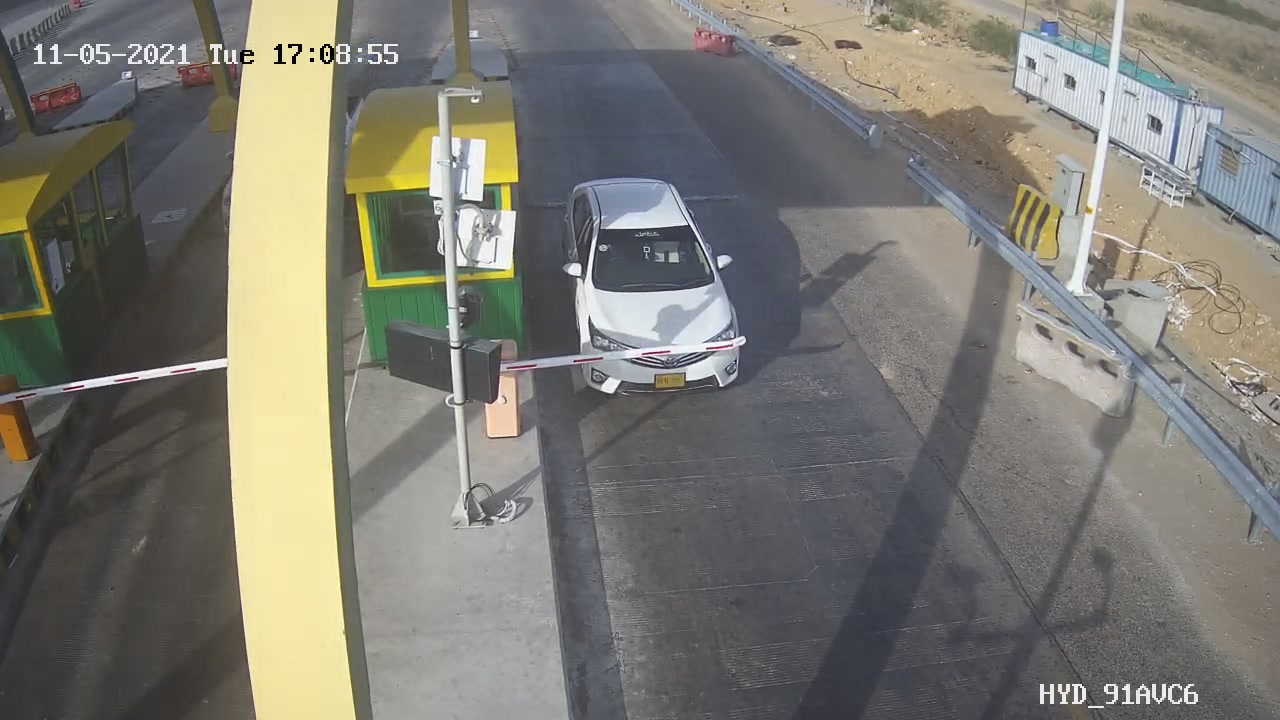F1: (537, 159, 765, 417)
